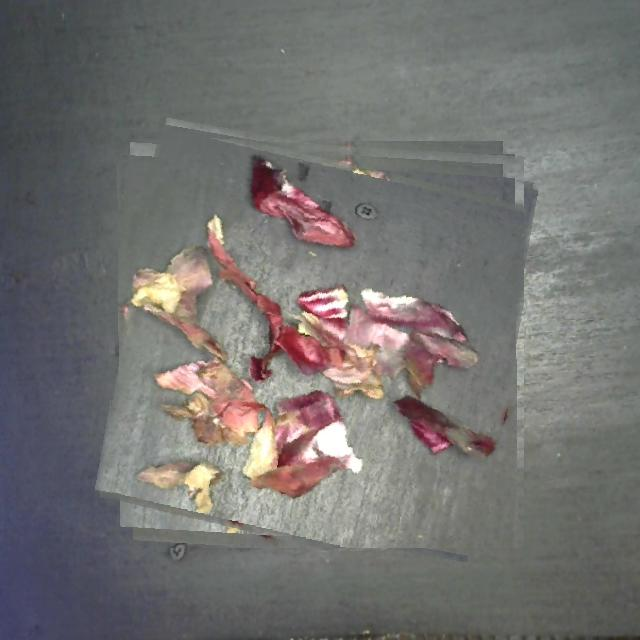biodegradable: (109, 132, 524, 548)
